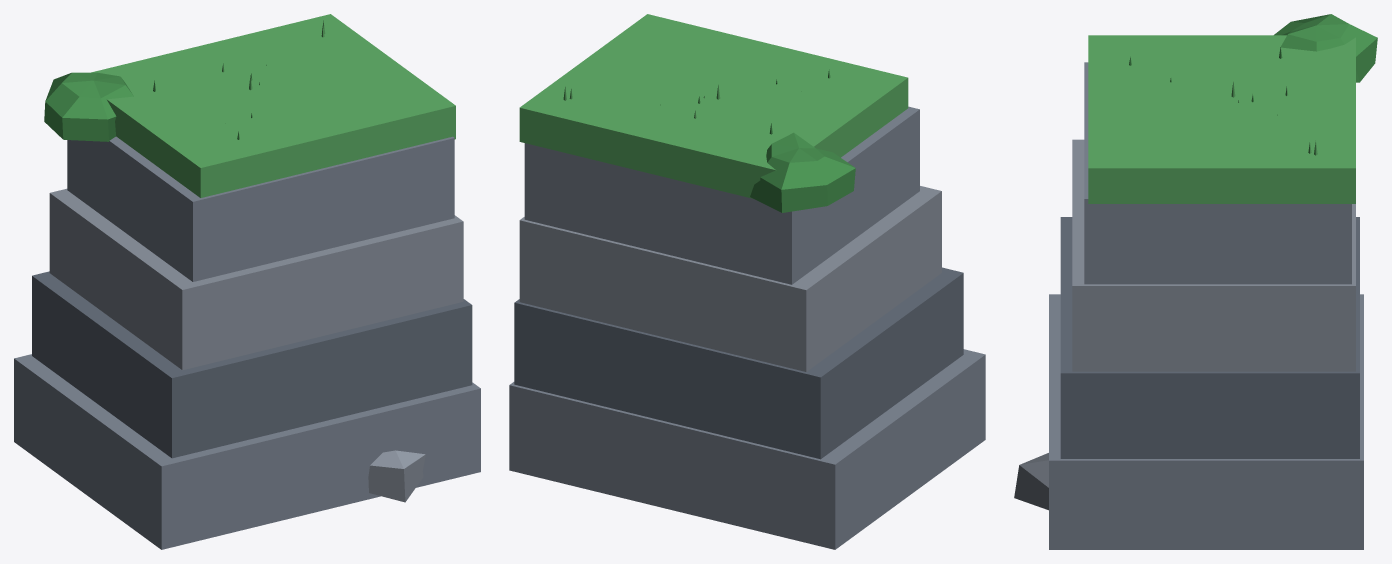
Rendered from xy_terrain_cliff.glb.
3 views of the same model, side by side, from view 1: azimuth 30°, elevation 25°; view 2: azimuth 150°, elevation 25°; view 3: azimuth 270°, elevation 25° (orthographic). The views are drawn at different scales.
Visible parts, largest first — view 1: Terrain; view 2: Terrain; view 3: Terrain.
Boxes of the visible parts, x1,y1,x2,y2 form: Terrain: [14, 14, 480, 549]; Terrain: [509, 14, 985, 549]; Terrain: [1014, 14, 1377, 549].
Size of the model in its own units: 5 by 5.53 by 4.62.
